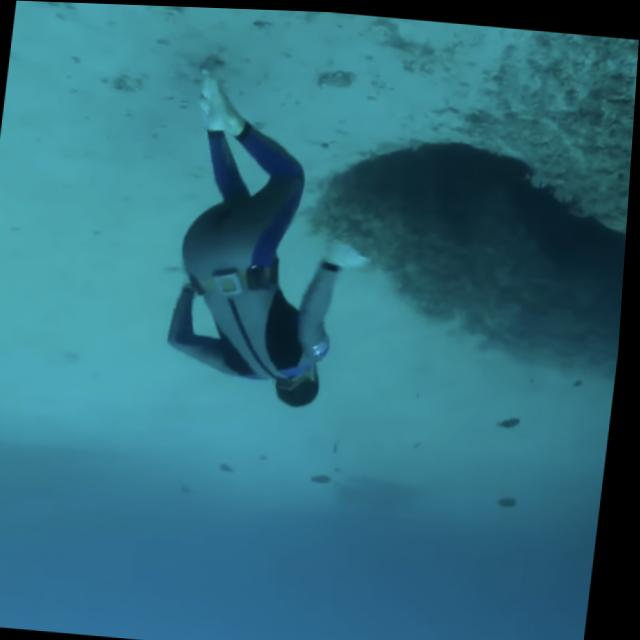human: (158, 42, 388, 420)
